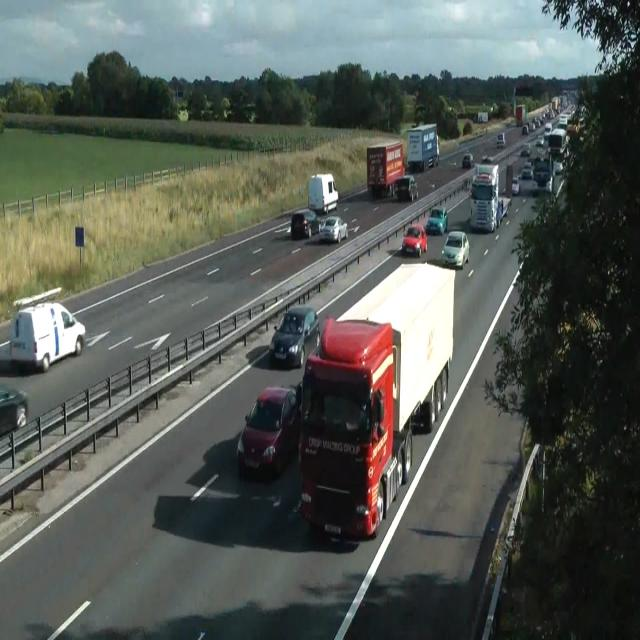bus: (269, 304, 319, 369), (0, 386, 28, 436), (442, 230, 469, 270), (401, 223, 427, 257), (290, 209, 319, 239), (318, 215, 348, 243), (390, 175, 418, 201), (425, 206, 447, 236), (462, 153, 474, 168), (496, 132, 506, 148), (522, 162, 532, 178), (512, 176, 520, 195), (554, 160, 564, 175), (481, 153, 491, 163), (520, 148, 530, 156), (535, 137, 543, 147), (521, 124, 529, 134)
jeep: (236, 384, 300, 479), (9, 299, 85, 372)
minibus: (298, 260, 456, 540), (367, 140, 405, 198), (469, 163, 499, 232), (406, 122, 440, 172), (307, 172, 338, 215), (516, 104, 526, 124), (476, 112, 488, 123)
